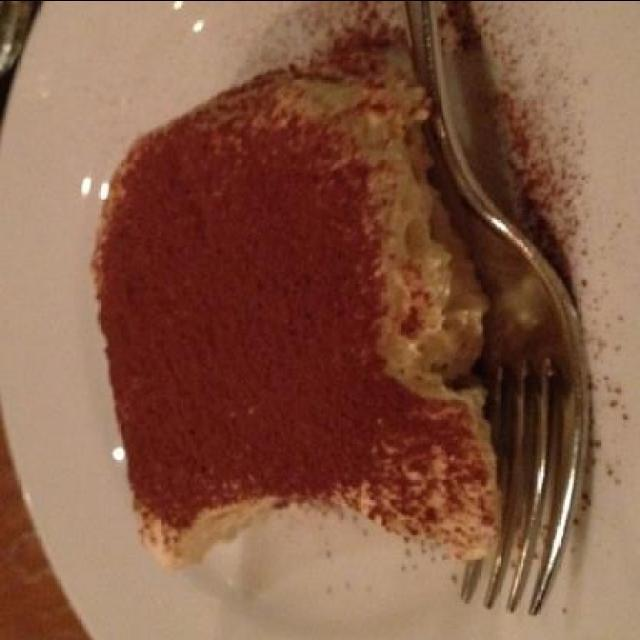Tiramisu: (94, 62, 468, 570)
